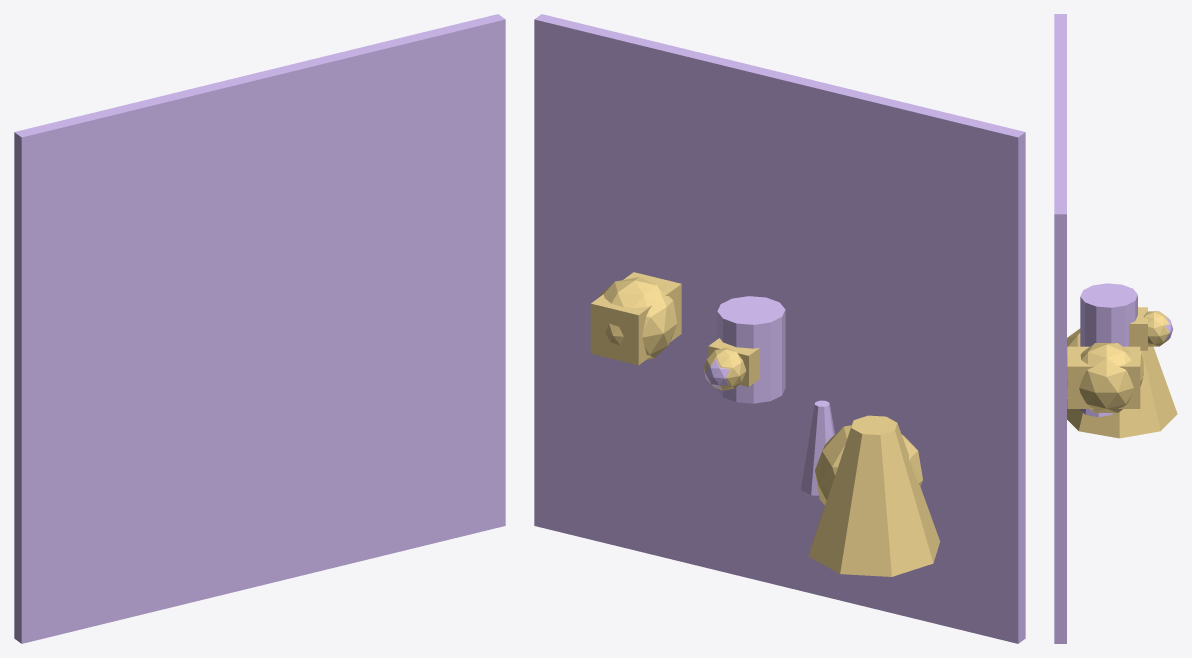
Rendered from spaceflight-explorer-kit.glb.
The picture shows the model from 3 angles, left to right: view 1: azimuth 30°, elevation 25°; view 2: azimuth 150°, elevation 25°; view 3: azimuth 270°, elevation 25°; orthographic projection. The views are drawn at different scales.
Parts seen in each view (by area): view 1: ENVIRONMENT_GROUND; view 2: ENVIRONMENT_GROUND, ENVIRONMENT_LANDMARK, PLAYER_BODY, PROFILE_OBSTACLE_DETAIL, OBSTACLE, PROFILE_ENVIRONMENT_DETAIL, PROFILE_ENVIRONMENT_SPIRE, PLAYER_CORE, PROFILE_PLAYER_DETAIL; view 3: ENVIRONMENT_GROUND, ENVIRONMENT_LANDMARK, PLAYER_BODY, OBSTACLE, PROFILE_OBSTACLE_DETAIL, PLAYER_CORE, PROFILE_PLAYER_DETAIL, PROFILE_ENVIRONMENT_DETAIL.
Boxes of the visible parts, bbox=[...] form: ENVIRONMENT_GROUND: bbox=[14, 14, 505, 643]; ENVIRONMENT_GROUND: bbox=[534, 14, 1025, 643]; ENVIRONMENT_LANDMARK: bbox=[808, 415, 940, 576]; PLAYER_BODY: bbox=[717, 296, 785, 403]; PROFILE_OBSTACLE_DETAIL: bbox=[590, 272, 681, 365]; OBSTACLE: bbox=[600, 277, 676, 359]; PROFILE_ENVIRONMENT_DETAIL: bbox=[815, 425, 922, 504]; PROFILE_ENVIRONMENT_SPIRE: bbox=[801, 400, 834, 495]; PLAYER_CORE: bbox=[704, 347, 746, 390]; PROFILE_PLAYER_DETAIL: bbox=[708, 338, 759, 386]; ENVIRONMENT_GROUND: bbox=[1054, 14, 1066, 643]; ENVIRONMENT_LANDMARK: bbox=[1067, 346, 1177, 438]; PLAYER_BODY: bbox=[1080, 283, 1137, 346]; OBSTACLE: bbox=[1079, 343, 1143, 412]; PROFILE_OBSTACLE_DETAIL: bbox=[1067, 346, 1140, 408]; PLAYER_CORE: bbox=[1143, 311, 1169, 346]; PROFILE_PLAYER_DETAIL: bbox=[1129, 307, 1147, 350]; PROFILE_ENVIRONMENT_DETAIL: bbox=[1067, 328, 1143, 398].
Size of what is drawn, in the model's own units: 9 by 9 by 2.34.
